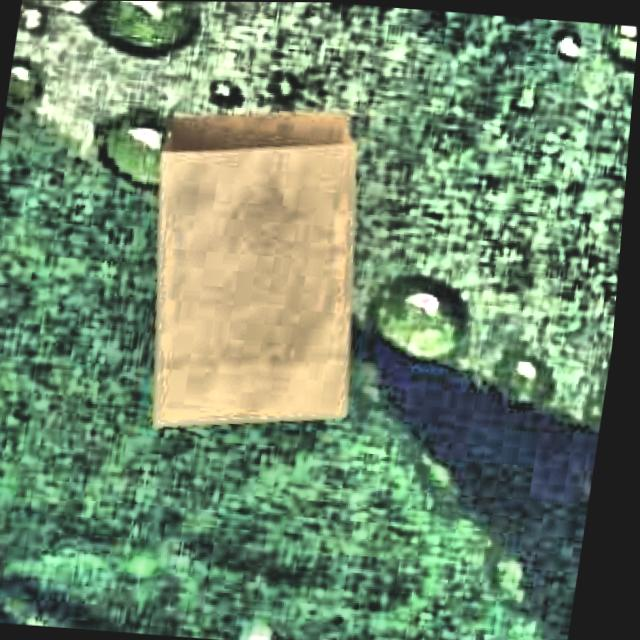Paper-bag: (105, 90, 411, 476)
